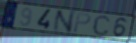4: (36, 8, 53, 31)
6: (112, 17, 128, 38)
9: (20, 6, 35, 28)
C: (91, 15, 111, 37)
N: (52, 10, 78, 34)
P: (72, 12, 92, 34)
